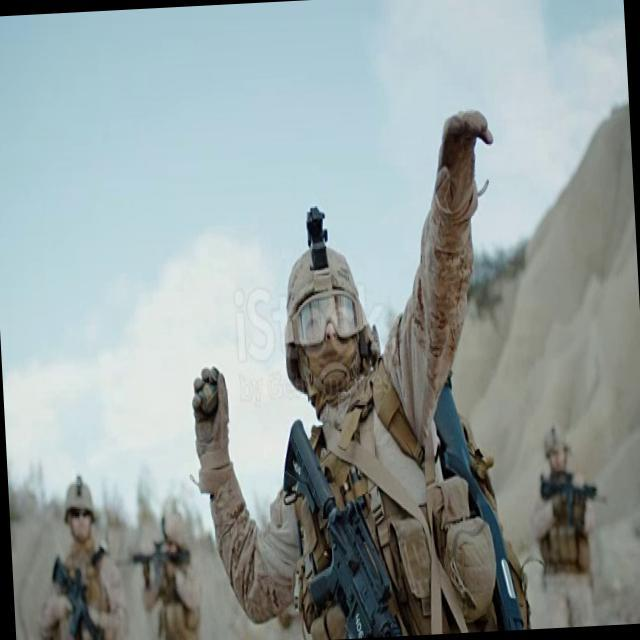grenade: (192, 365, 228, 420)
